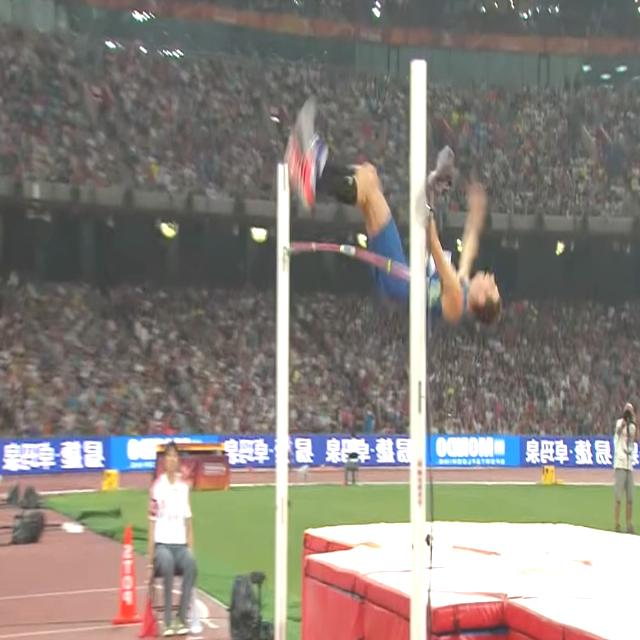land: (288, 107, 501, 325)
